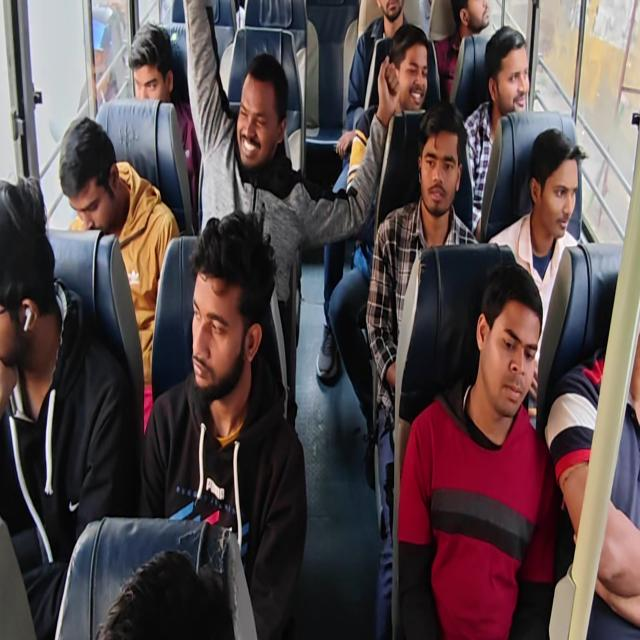person: (0, 186, 55, 375), (186, 248, 251, 400), (63, 133, 126, 240), (481, 288, 535, 411), (602, 276, 640, 420), (235, 59, 281, 166), (535, 134, 581, 232), (126, 27, 176, 108), (492, 26, 533, 124), (387, 28, 426, 122), (418, 134, 456, 216), (452, 0, 498, 40), (375, 0, 410, 28)
